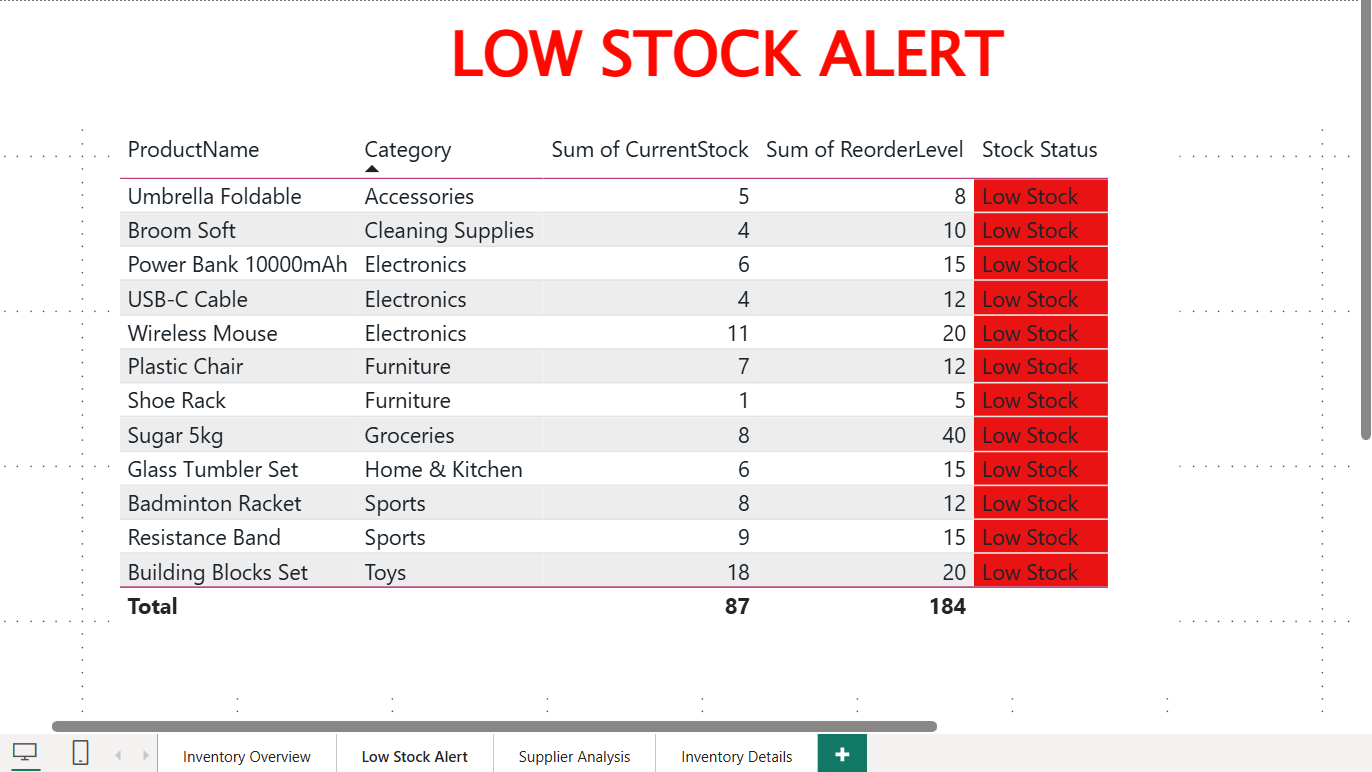

The dashboard page shown, as its layout file describes it:
{"tool":"powerbi","page":{"name":"Low Stock Alert ","canvas":[1280,720],"ordinal":1},"visuals":[{"type":"tableEx","fields":{"Values":["Products.ProductName","Products.Category","Sum(Inventory.CurrentStock)","Sum(Products.ReorderLevel)","Inventory.Stock Status"]},"box":[112,75.1,658.5,349.5],"z":0},{"type":"textbox","box":[0,0,984.5,75.5],"z":1000}]}

Visuals, with their boxes on the page's 1280x720 design canvas (x1, y1, x2, y2). These are canvas units, not pixel positions in the 1372x772 screenshot, which may show the page scaled, cropped or inside an application window:
tableEx - Products.ProductName x Products.Category: (112,75,770,425)
textbox: (0,0,984,76)
